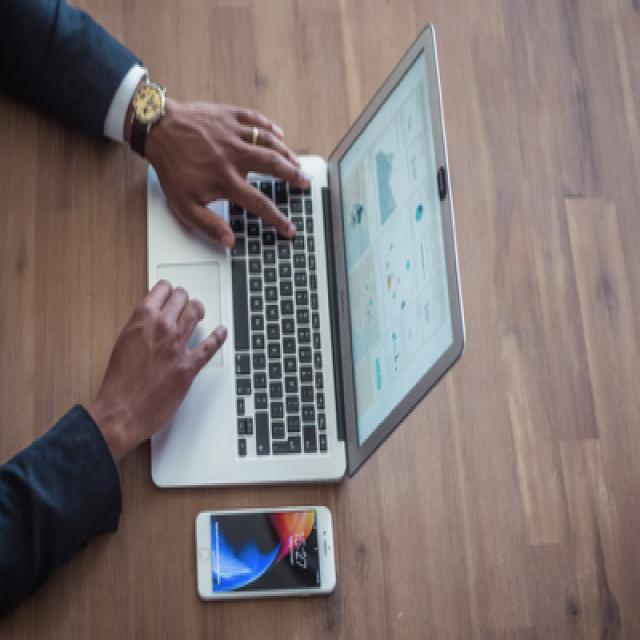cellphone: (194, 504, 336, 600)
